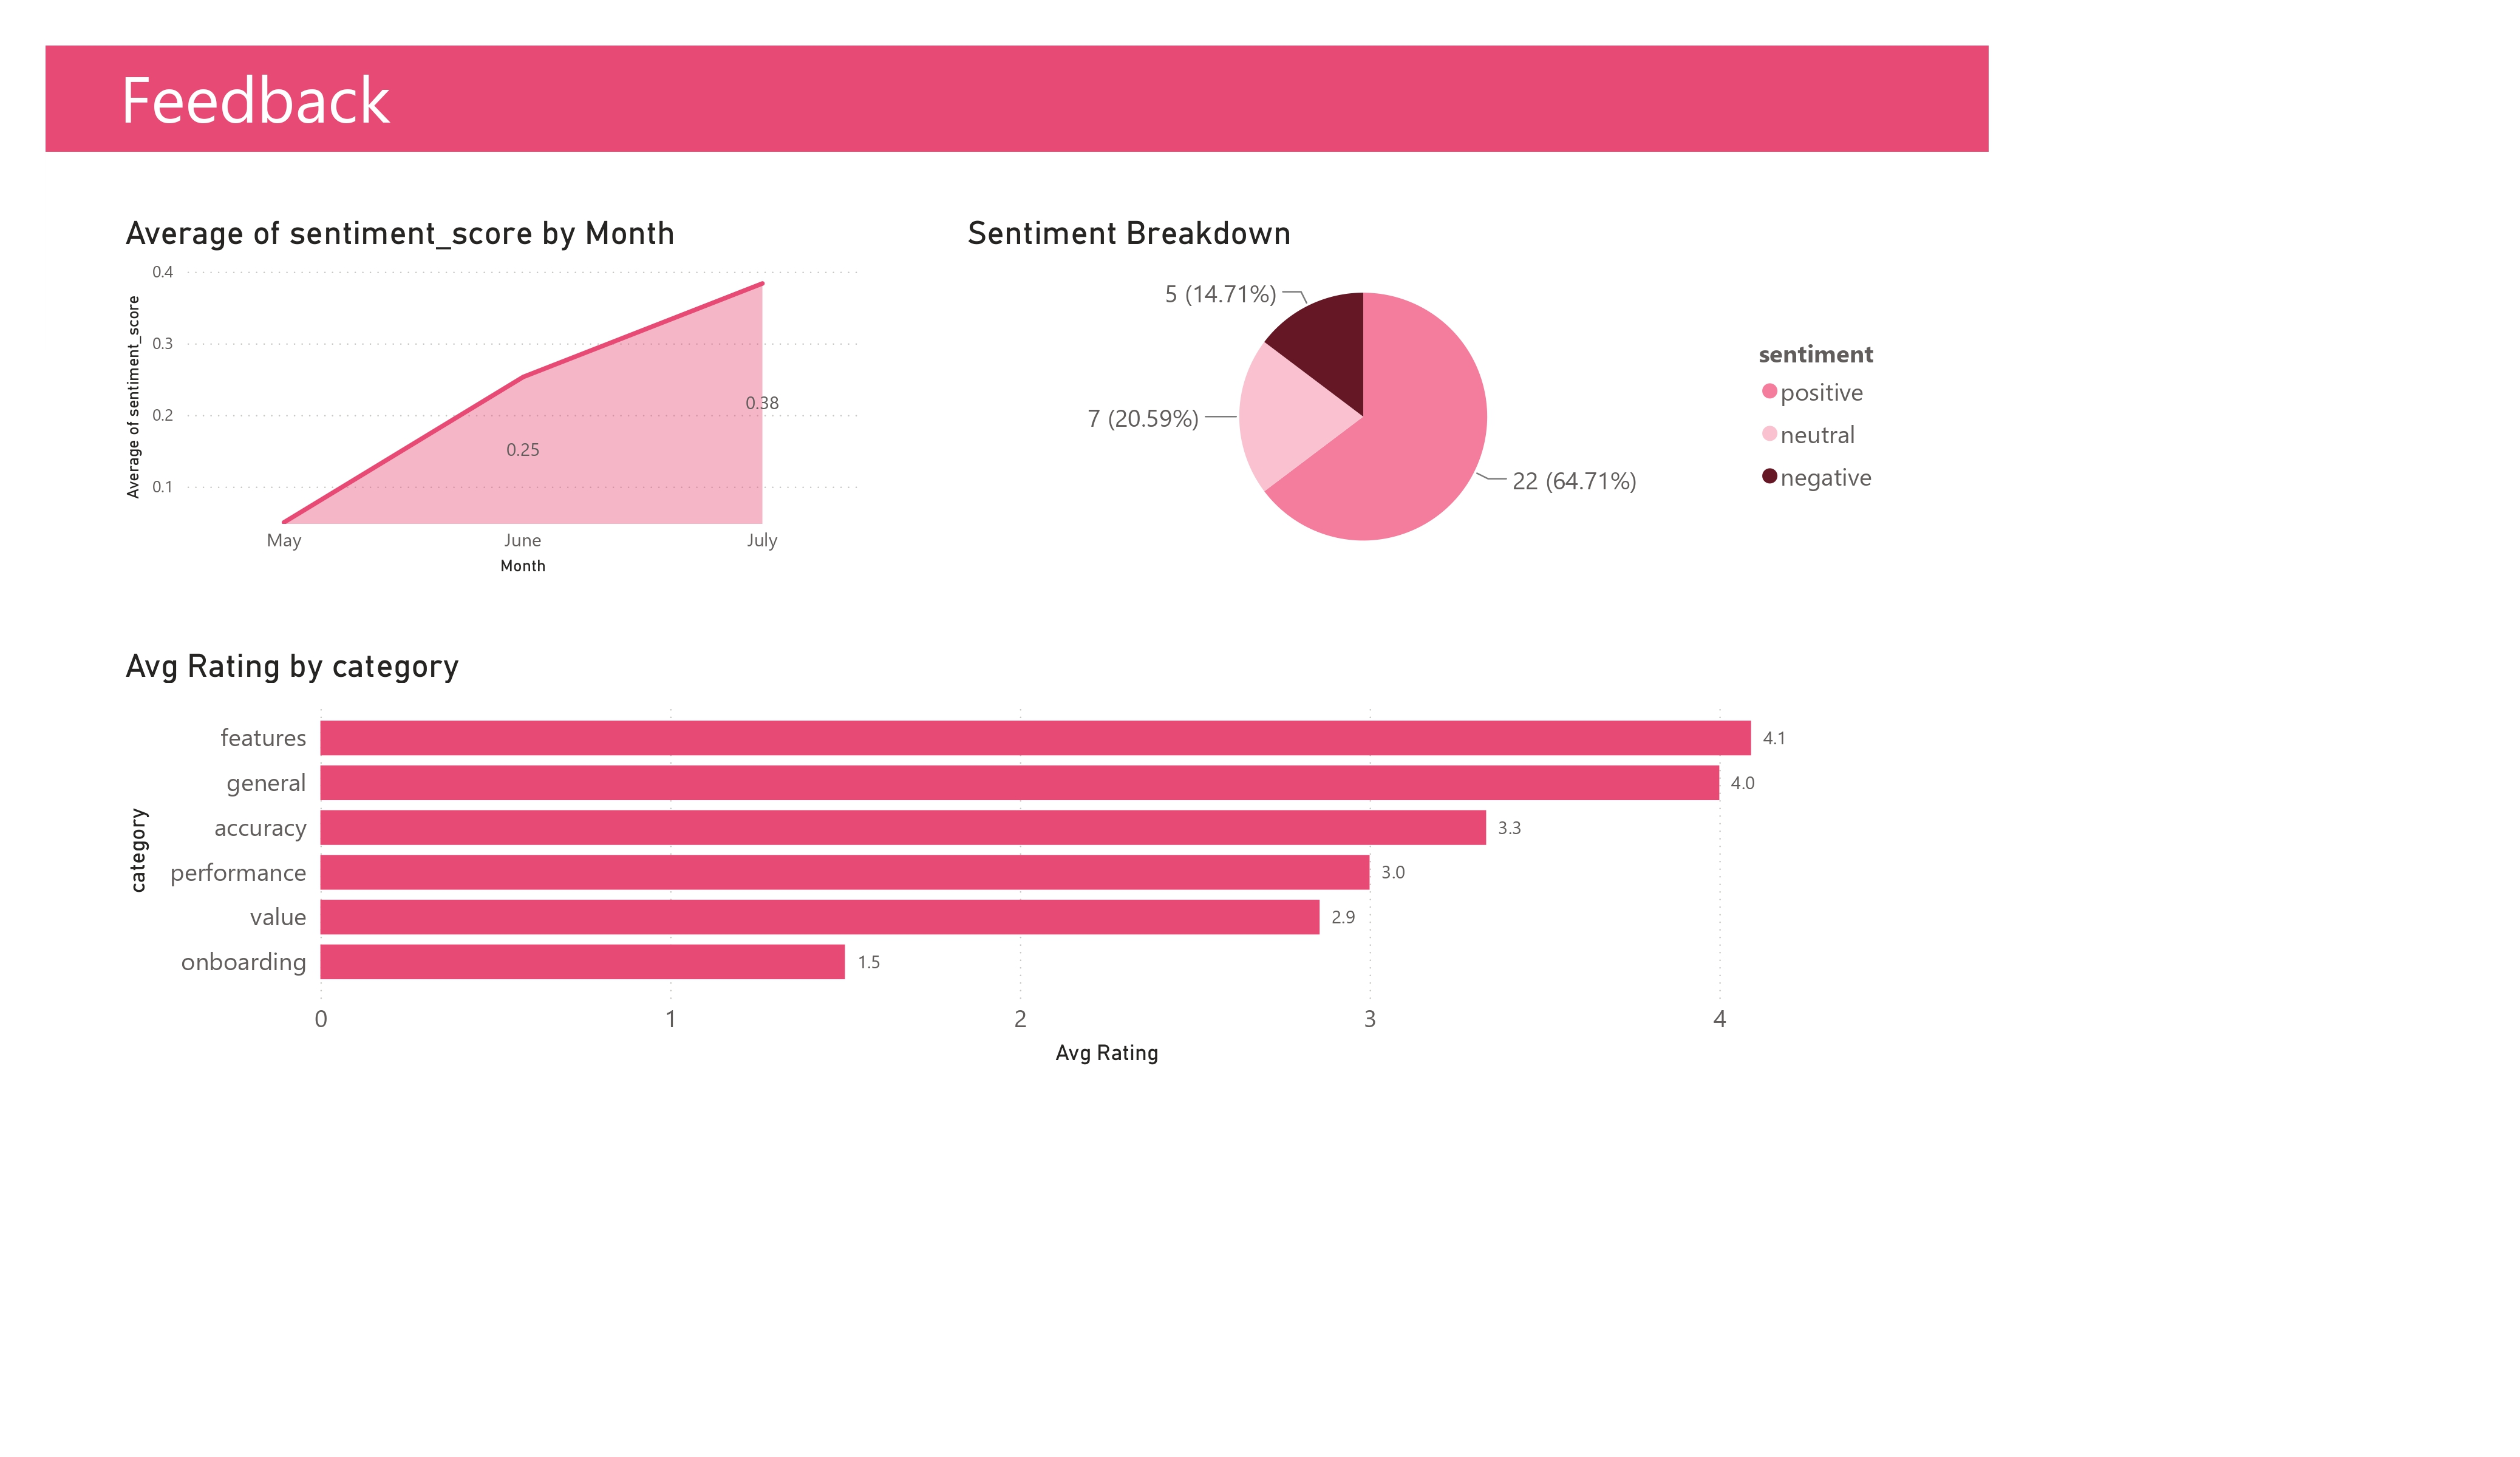

Layout of this report page (visuals, bound fields, positions):
{"tool":"powerbi","page":{"name":"Feedback","canvas":[1280,720],"ordinal":4},"visuals":[{"type":"pieChart","title":" Sentiment Breakdown","fields":{"Category":["feedback.sentiment"],"Y":["CountNonNull(feedback.sentiment)"]},"box":[596.2,105,637.5,255],"z":0},{"type":"clusteredBarChart","fields":{"Category":["feedback.category"],"Y":["users.Avg Rating"]},"box":[41.2,390,1192.5,292.5],"z":2000},{"type":"stackedAreaChart","fields":{"Category":["feedback.created_at.Variation.Date Hierarchy.Month"],"Y":["Avg(feedback.sentiment_score)"]},"box":[41.2,105,505,255],"z":3000},{"type":"textbox","box":[0,0,1280,70],"z":3001}]}

Visuals, with their boxes on the page's 1280x720 design canvas (x1, y1, x2, y2). These are canvas units, not pixel positions in the 2520x1457 screenshot, which may show the page scaled, cropped or inside an application window:
" Sentiment Breakdown" pieChart: x1=596, y1=105, x2=1234, y2=360
clusteredBarChart - feedback.category x users.Avg Rating: x1=41, y1=390, x2=1234, y2=682
stackedAreaChart - feedback.created_at.Variation.Date Hierarchy.Month x Avg(feedback.sentiment_score): x1=41, y1=105, x2=546, y2=360
textbox: x1=0, y1=0, x2=1280, y2=70
